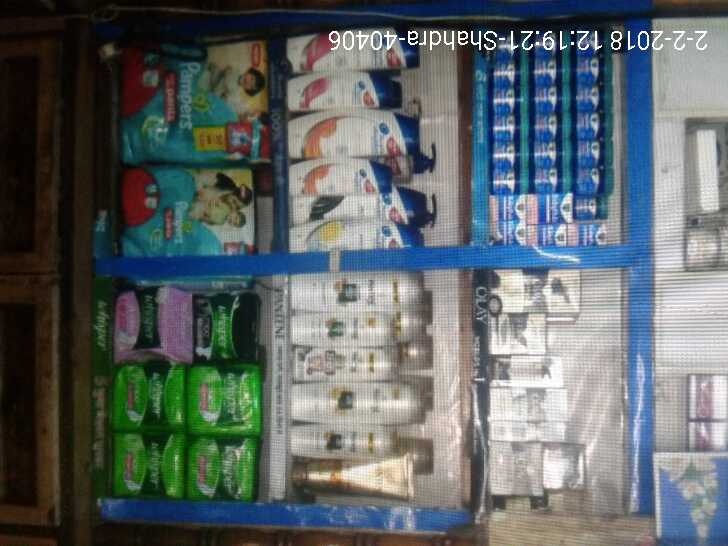vicks: (489, 26, 617, 244)
